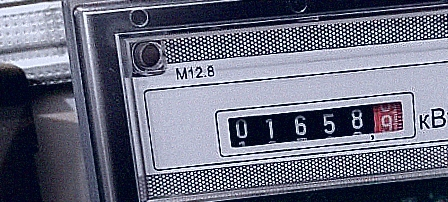0: (234, 116, 249, 140)
1: (264, 116, 276, 139)
5: (320, 110, 337, 135)
6: (292, 113, 308, 136)
8: (348, 106, 365, 129)
9: (377, 112, 393, 134)
screen: (208, 81, 425, 165)
